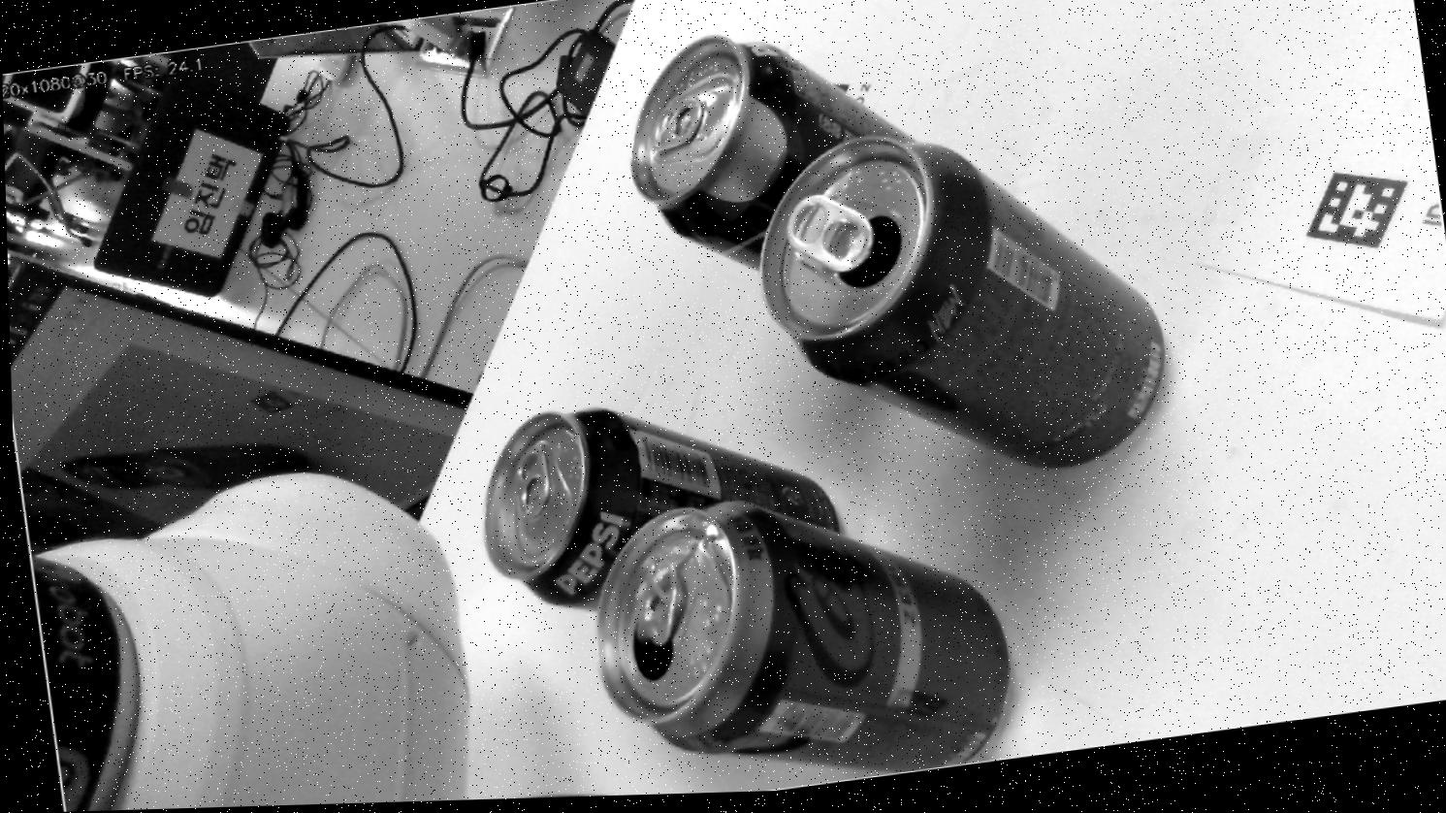can_coke_decaf: (596, 500, 1007, 769)
can_coke_zero: (759, 136, 1164, 466)
can_pepsi: (482, 408, 839, 609)
can_pepsi_zero: (629, 35, 908, 267)
